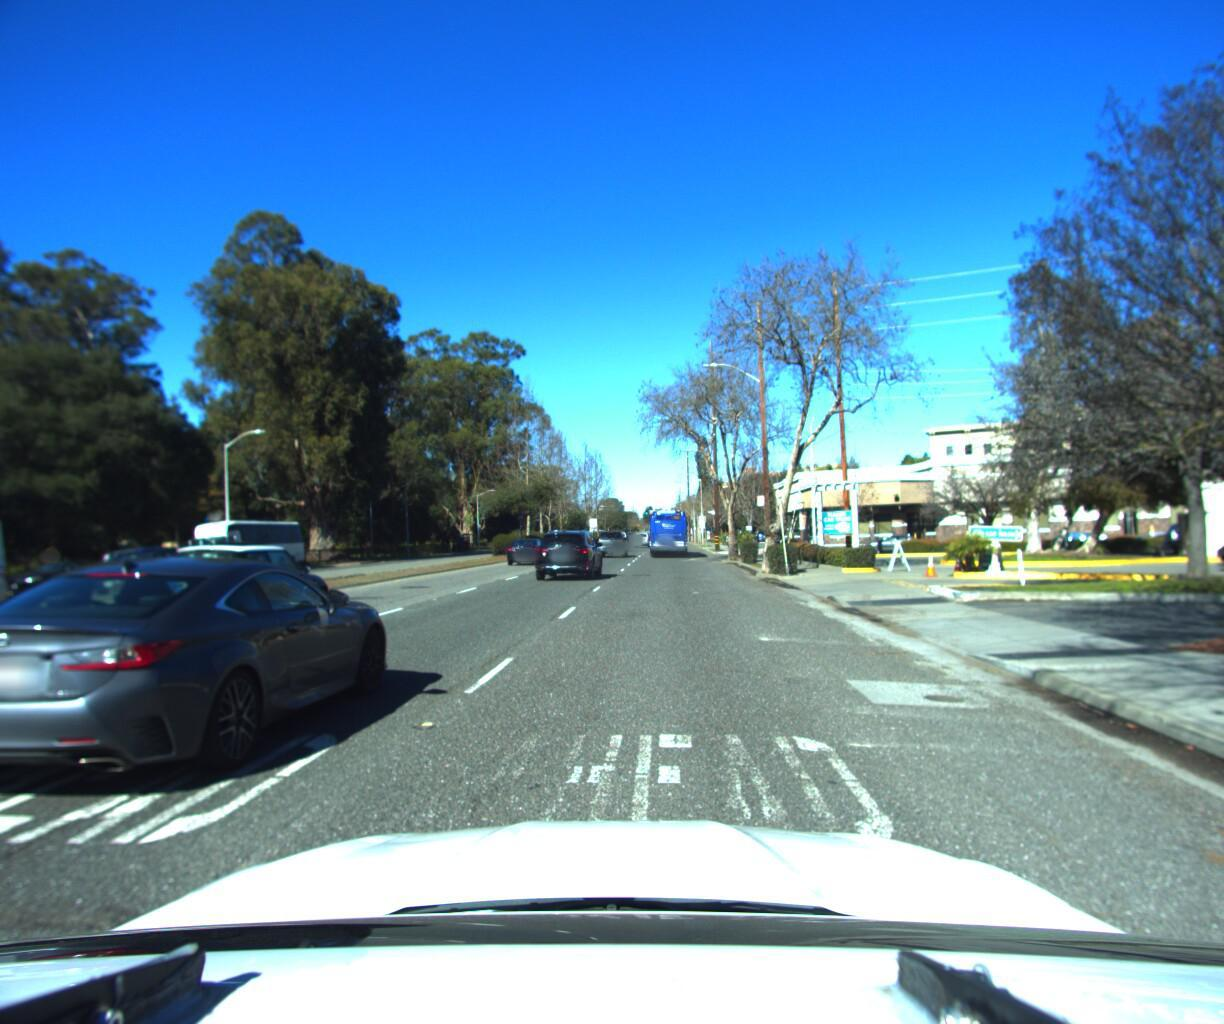bus: (170, 513, 312, 577), (645, 501, 692, 552)
car: (0, 546, 416, 821), (160, 533, 354, 634), (81, 541, 204, 589), (77, 540, 195, 587), (0, 554, 120, 595), (532, 523, 609, 576), (0, 524, 30, 652), (502, 525, 555, 559), (857, 525, 928, 548), (594, 525, 630, 553), (1207, 497, 1224, 557)
other_vehicle: (0, 498, 23, 627)
